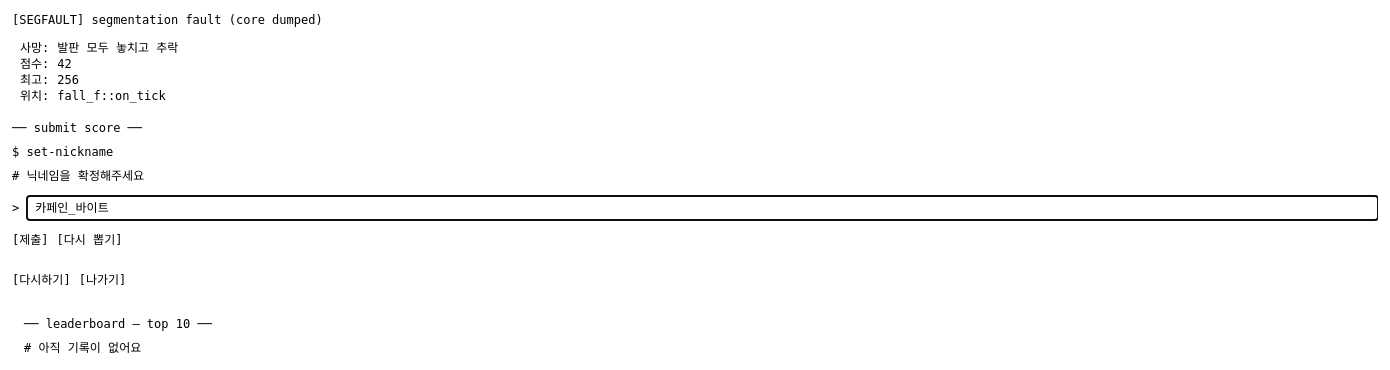
ResultScreen › submits the score and shows the [OK] confirmation, syncing nickname to session
The image size is (1390, 370).
Step 1. Replace the text in the field with "tester" → (703, 208), box [27,196,1378,220]
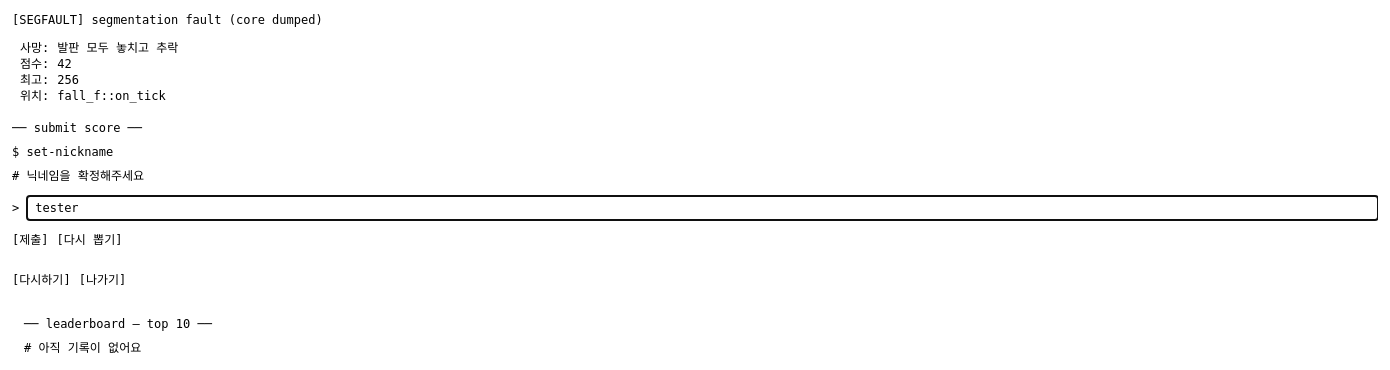
Step 2. Click the button "[제출]" → (30, 240), box [12,232,49,248]
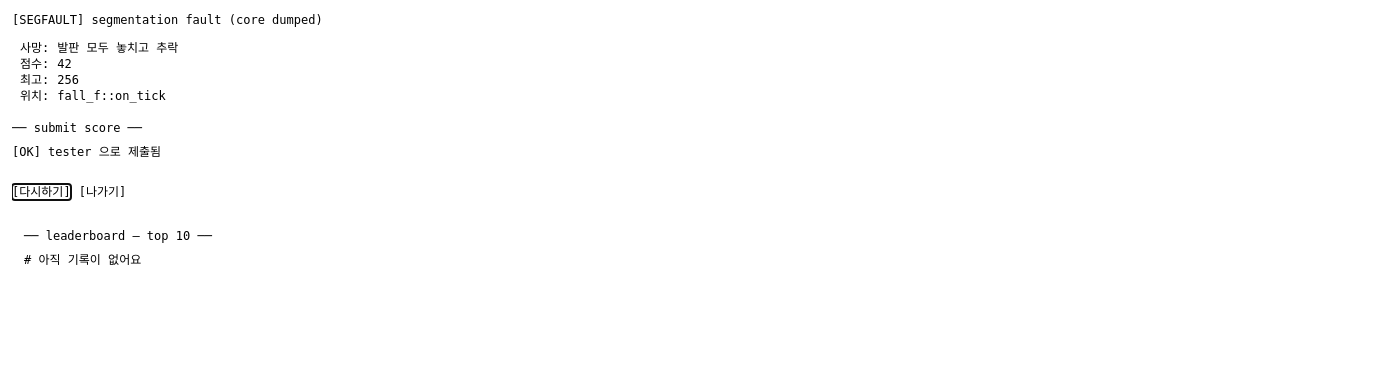
Now the text "[OK] tester 으로 제출됨" is shown, box [12,145,161,159]
